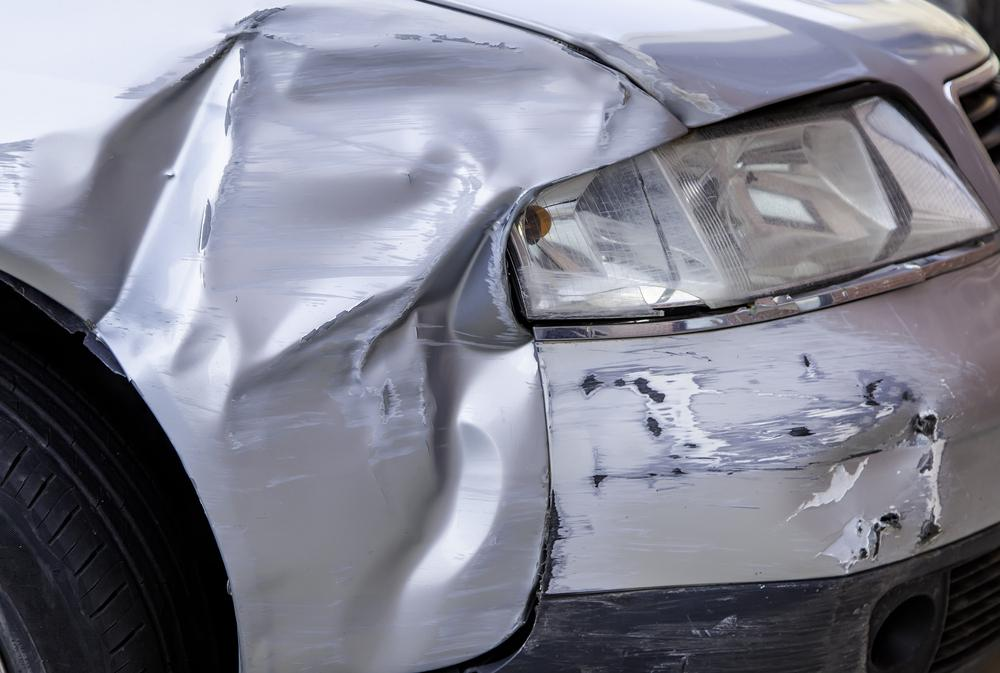dent: (0, 13, 683, 673), (789, 399, 941, 567)
lamp broken: (505, 85, 1000, 323)
scratch: (536, 312, 976, 594), (520, 556, 903, 673), (413, 353, 547, 670), (576, 32, 738, 126), (485, 214, 533, 344)
